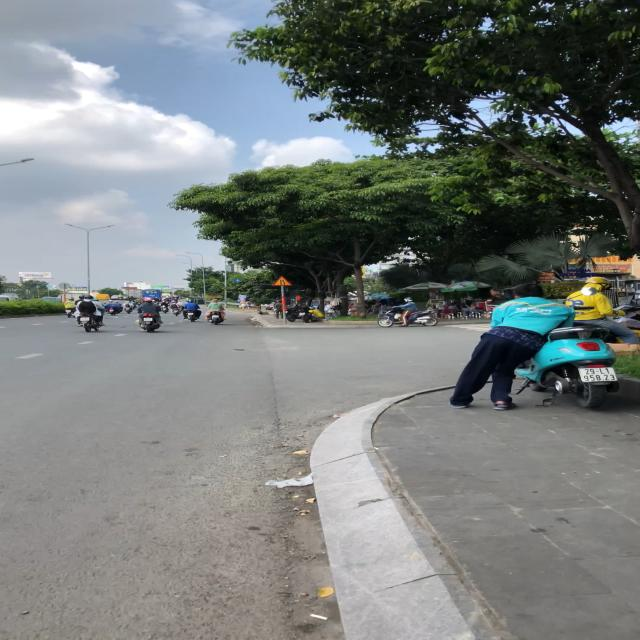Bien bao duong bi thu hep: (270, 276, 294, 286)
